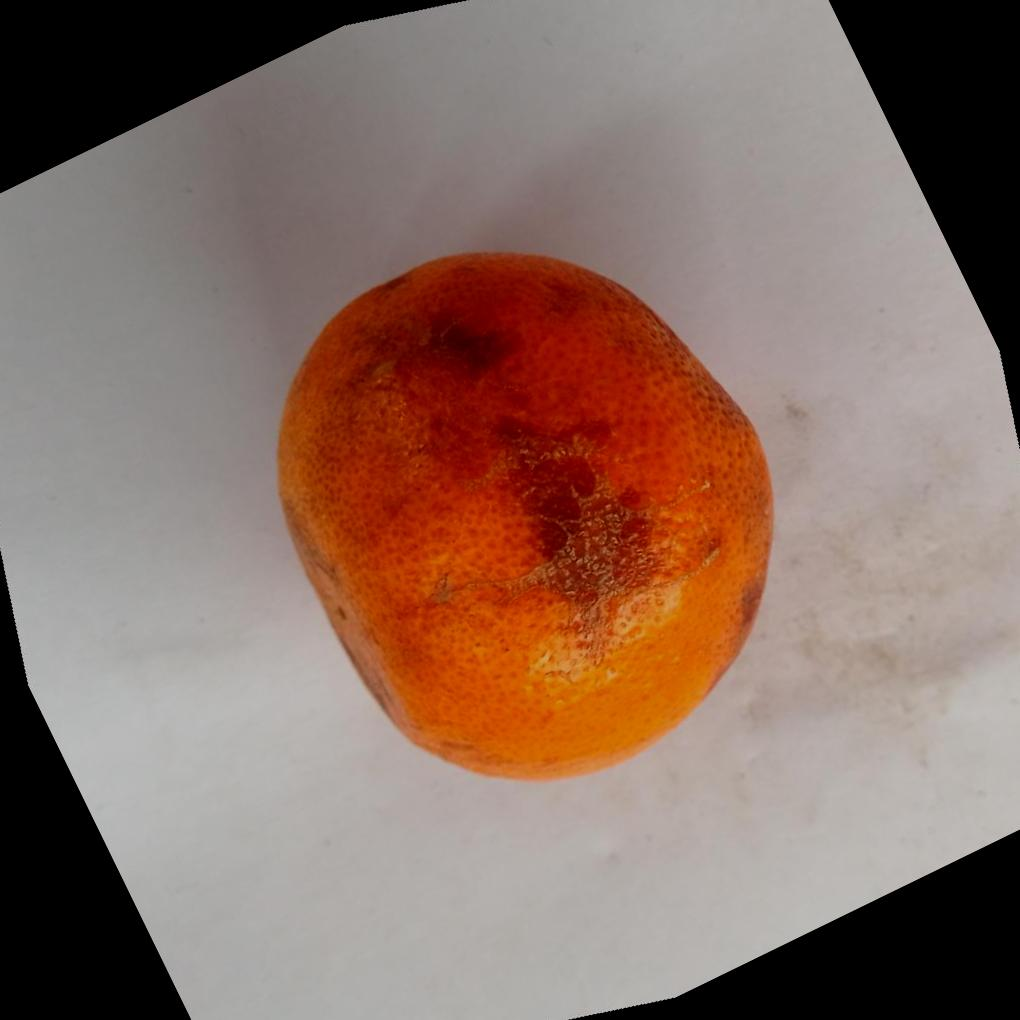FreshOrange: (276, 246, 780, 782)
